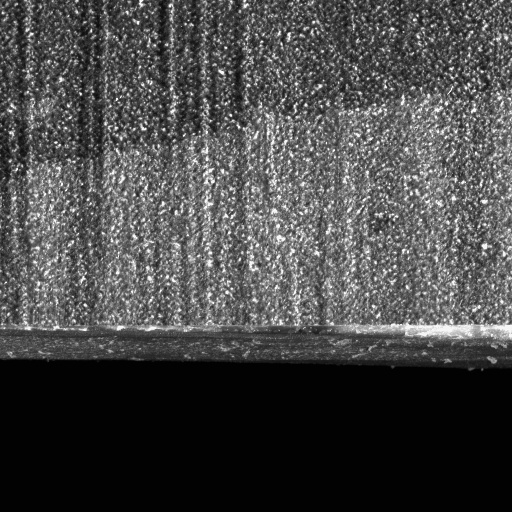kaijiao: (268, 321, 511, 372)
